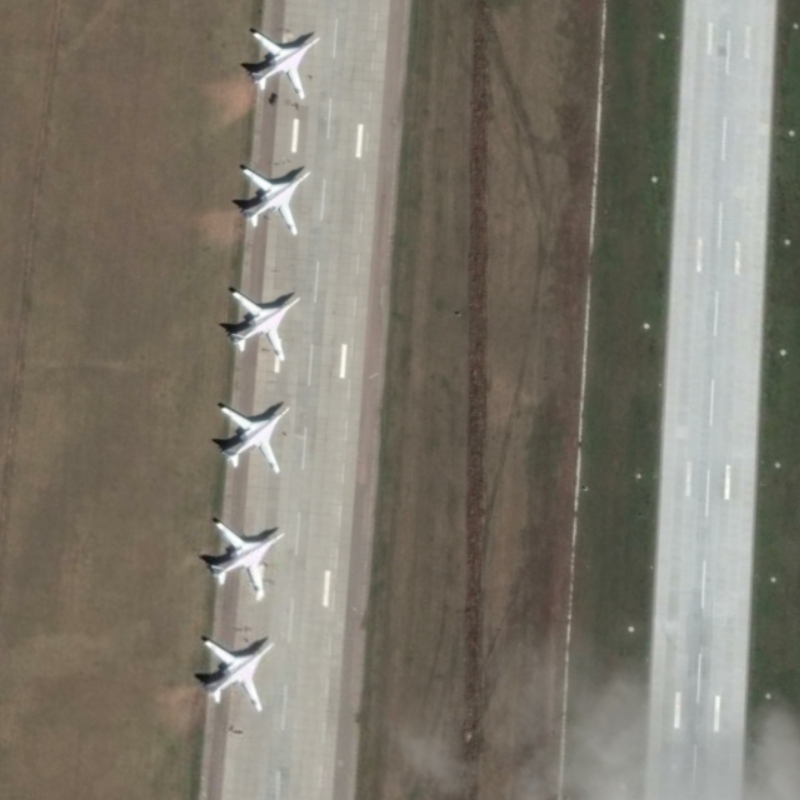A6: (204, 517, 289, 607), (196, 630, 280, 717), (232, 161, 314, 241), (242, 24, 325, 103), (216, 396, 292, 477), (225, 285, 303, 362)
